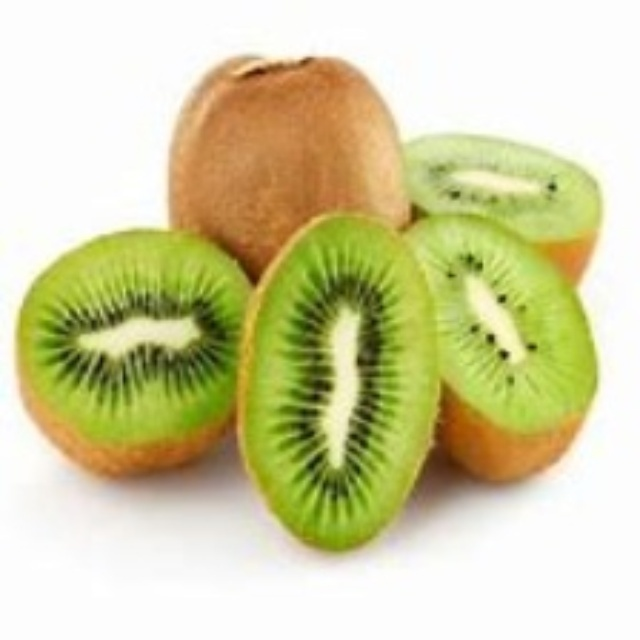kiwi: (238, 213, 442, 558), (15, 229, 259, 490), (405, 209, 602, 485), (172, 56, 413, 273), (403, 109, 612, 254)
